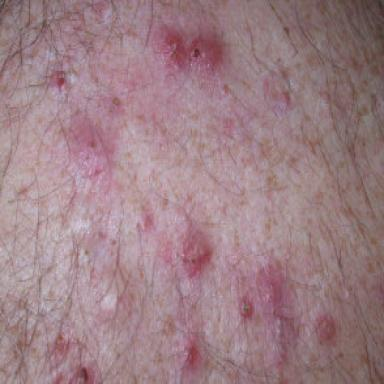acne: (257, 259, 295, 382), (67, 109, 110, 187), (154, 26, 223, 73), (181, 225, 212, 277), (53, 366, 102, 383), (317, 315, 336, 346), (52, 335, 71, 363), (185, 338, 202, 366), (104, 96, 124, 114), (49, 71, 66, 89), (240, 296, 253, 318), (143, 214, 154, 231)
